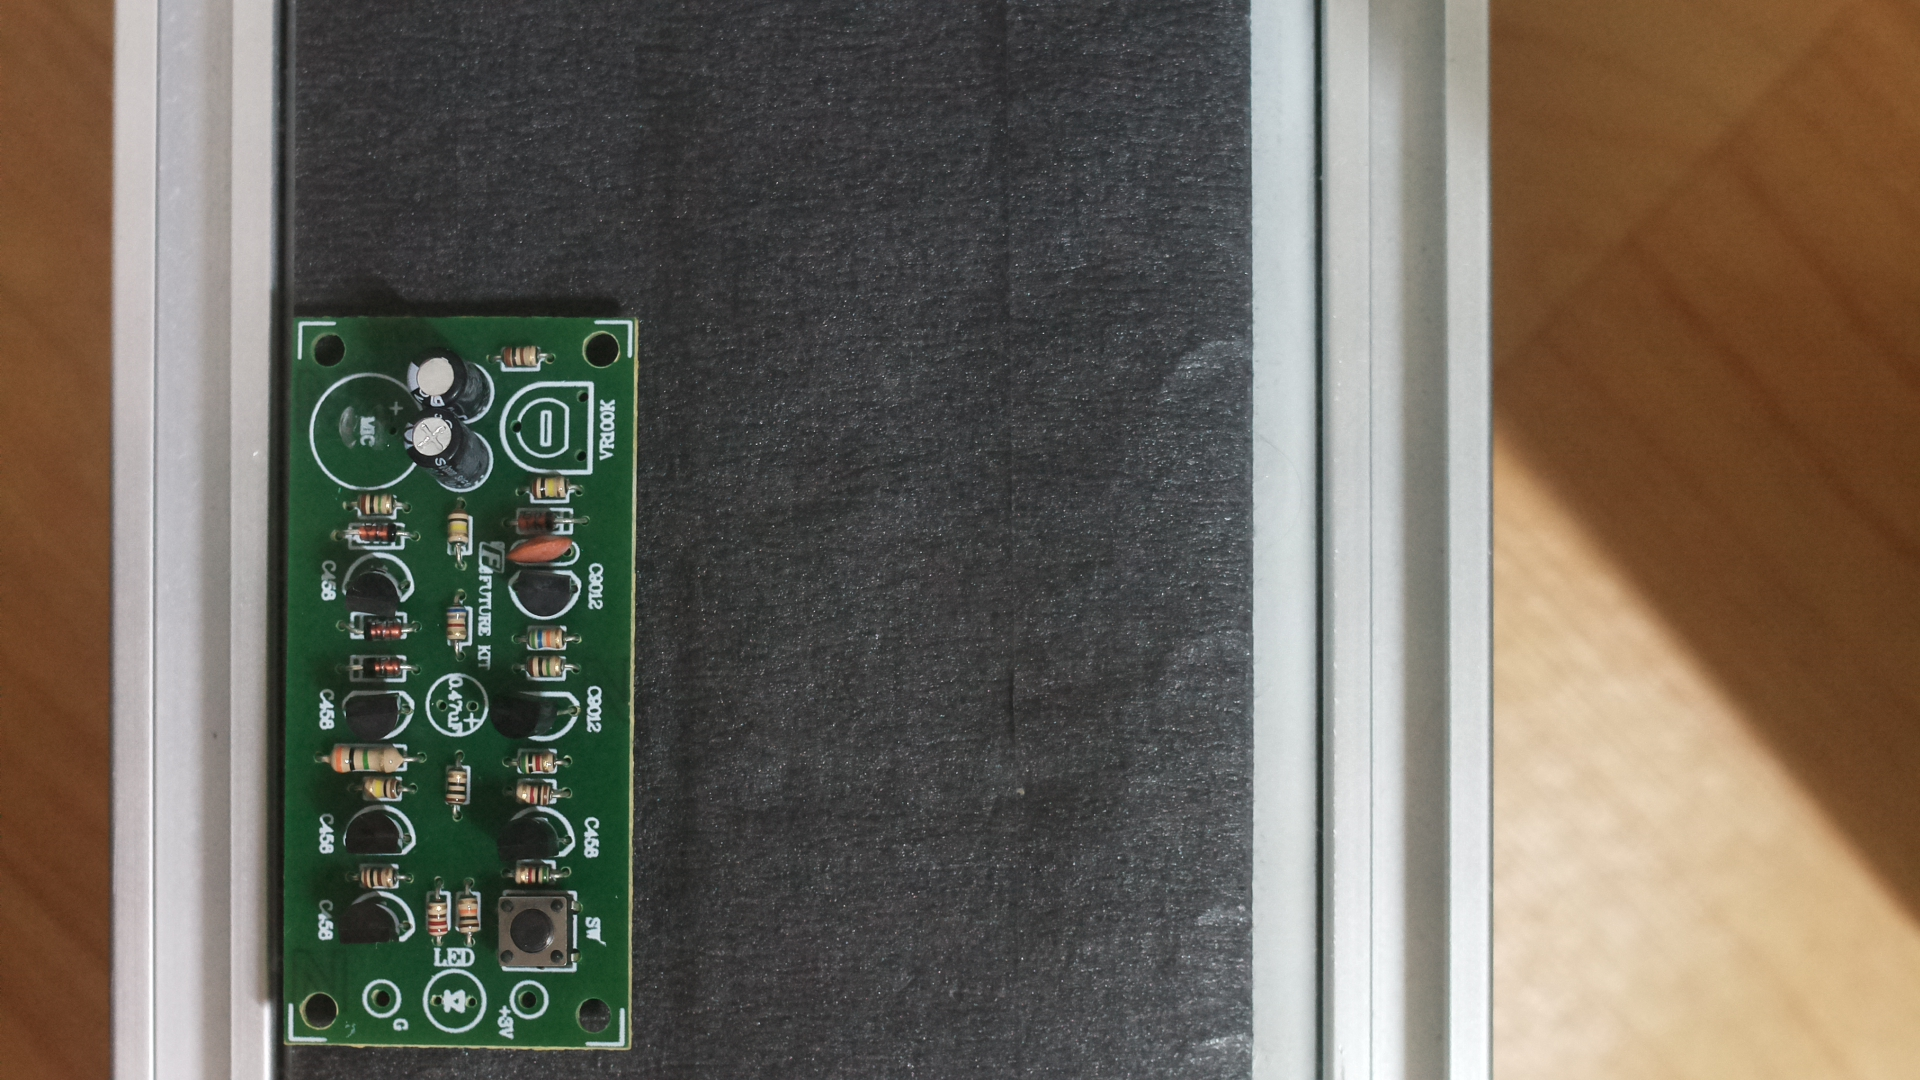A_Missing_part: (285, 303, 647, 1067)
